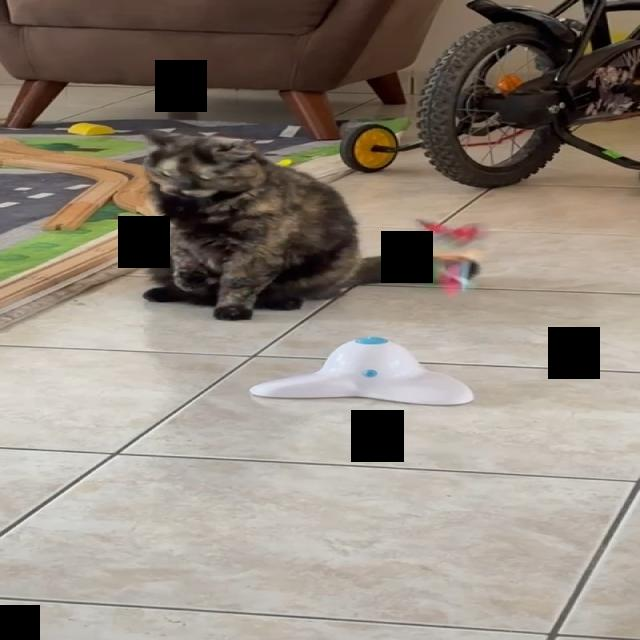authorized: (137, 129, 480, 321)
